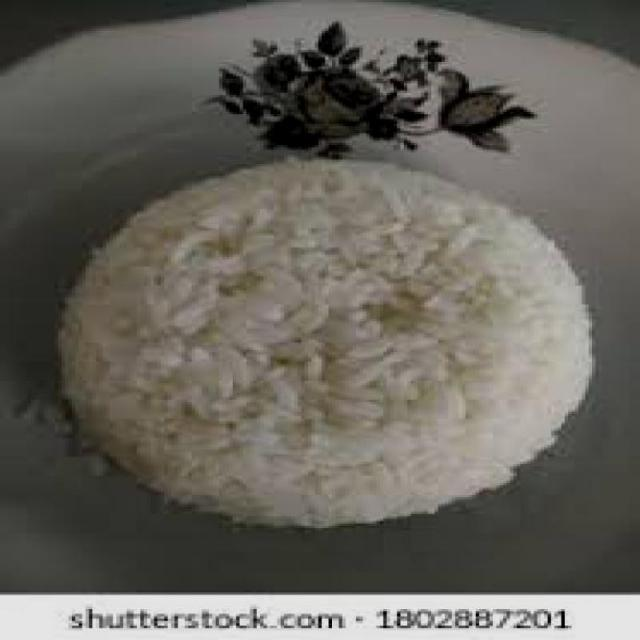rice: (55, 156, 596, 531)
